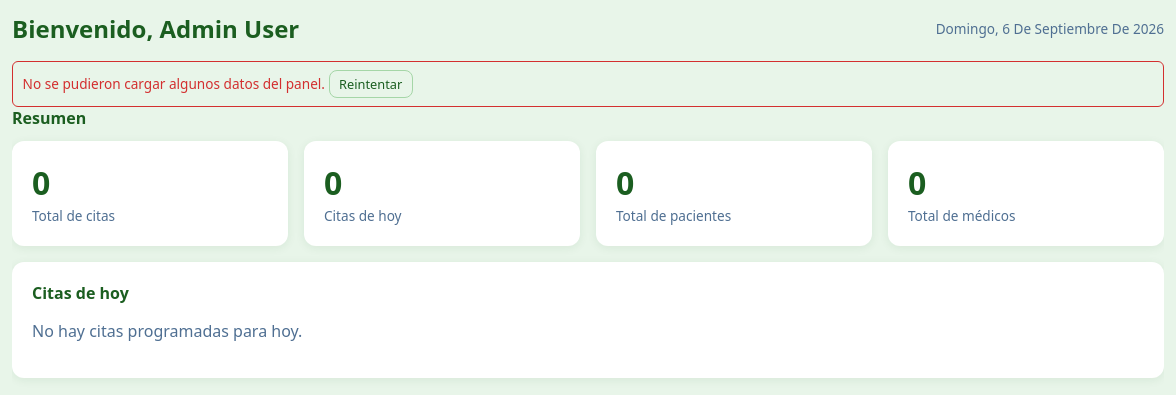
Test: Dashboard › shows a load-error message with a retry affordance when a request fails, and retry re-fetches
Check: the text "No se pudieron cargar algunos datos del panel. Reintentar" is shown, box [12,61,1164,107]
Step 1. Click the button "Reintentar" → (371, 84), box [328,70,413,98]
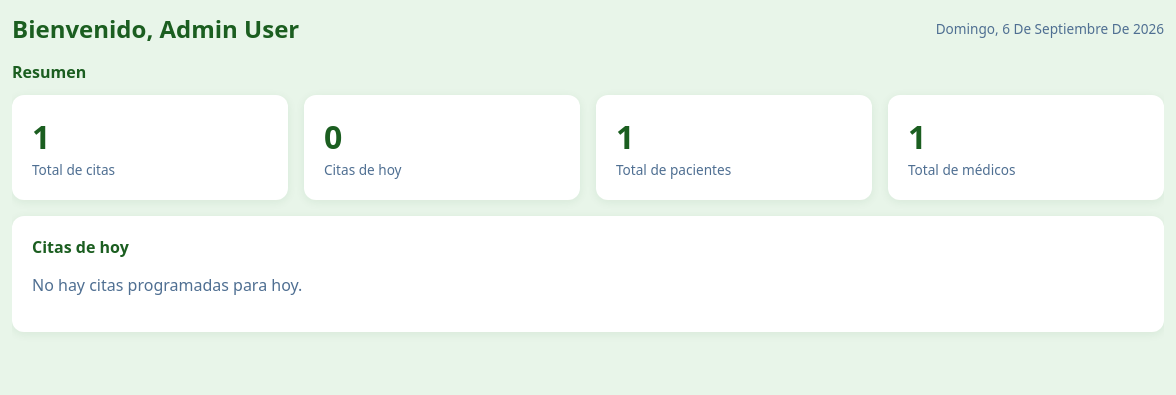
Check: the button "Reintentar" is gone
